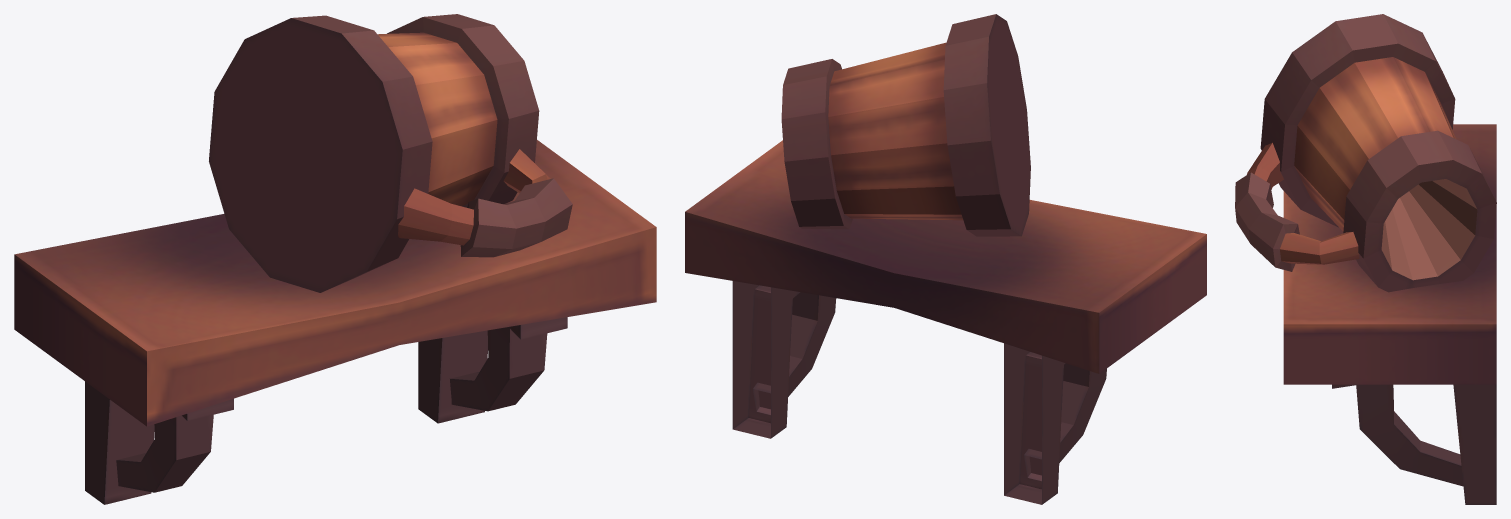
Rendered from 컵전시.fbx.
3 renders of one model, left to right at view 1: azimuth 30°, elevation 25°; view 2: azimuth 150°, elevation 25°; view 3: azimuth 270°, elevation 25°, orthographic. The views are drawn at different scales.
Parts seen in each view (by area): view 1: 컵전시; view 2: 컵전시; view 3: 컵전시.
Part boxes in pixels (x1=…): 컵전시: x1=14, y1=14, x2=656, y2=504; 컵전시: x1=685, y1=14, x2=1206, y2=504; 컵전시: x1=1235, y1=14, x2=1496, y2=504.
Bounding box in the file's own units: 1.96 × 1.81 × 1.09.
1 material, 1 textured.
